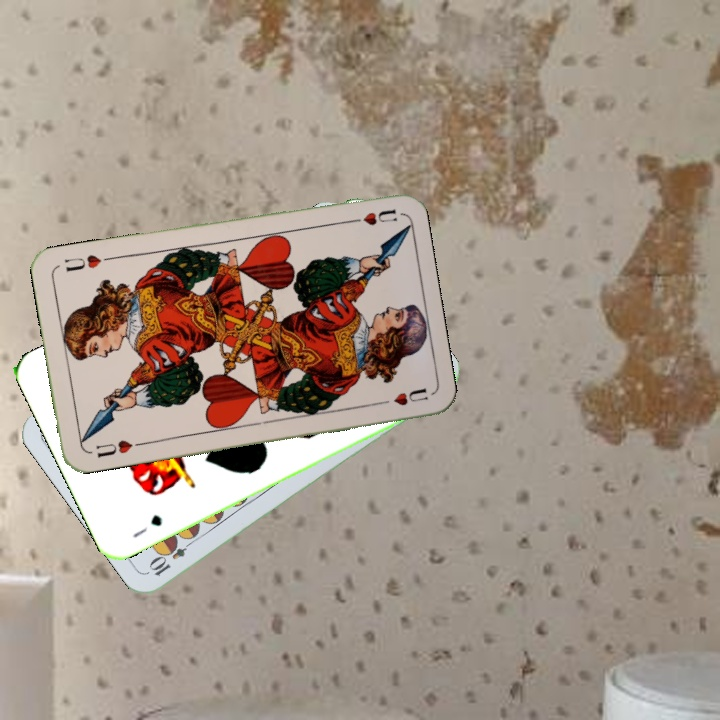E10: (145, 533, 198, 579)
GU: (129, 510, 165, 541)
HU: (342, 205, 399, 228), (92, 436, 144, 460)
